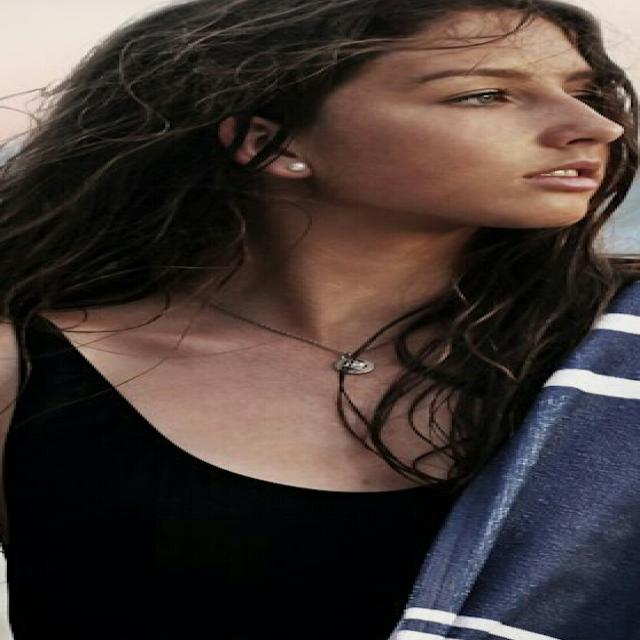front: (362, 46, 640, 225)
